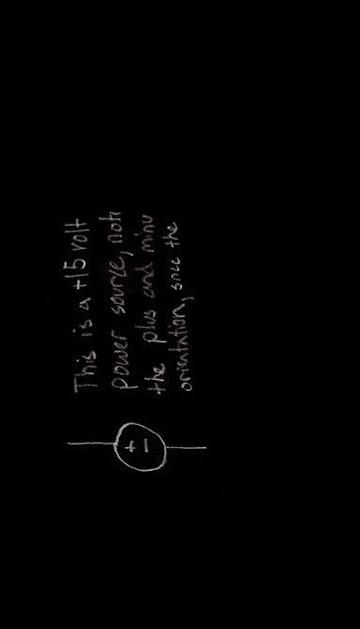Battery: (94, 410, 179, 483)
